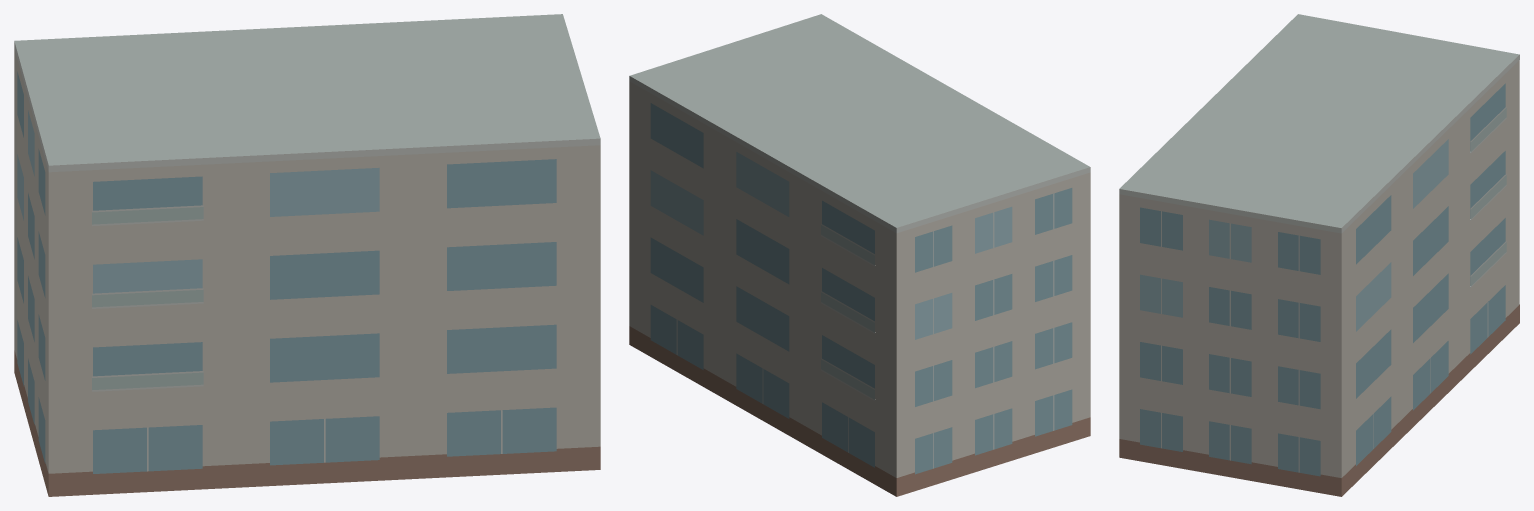
Rendered from survey-upis-32968055.glb.
The picture shows the model from 3 angles, left to right: view 1: azimuth 30°, elevation 25°; view 2: azimuth 150°, elevation 25°; view 3: azimuth 270°, elevation 25°; orthographic projection. The views are drawn at different scales.
Visible parts, largest first — view 1: survey-upis-32968055.tmp; view 2: survey-upis-32968055.tmp; view 3: survey-upis-32968055.tmp.
Part boxes in pixels (<box>): survey-upis-32968055.tmp: <box>14,14,600,496</box>; survey-upis-32968055.tmp: <box>629,14,1090,496</box>; survey-upis-32968055.tmp: <box>1119,14,1519,496</box>.
Bounding box in the file's own units: 20.86 × 12.2 × 16.49.
